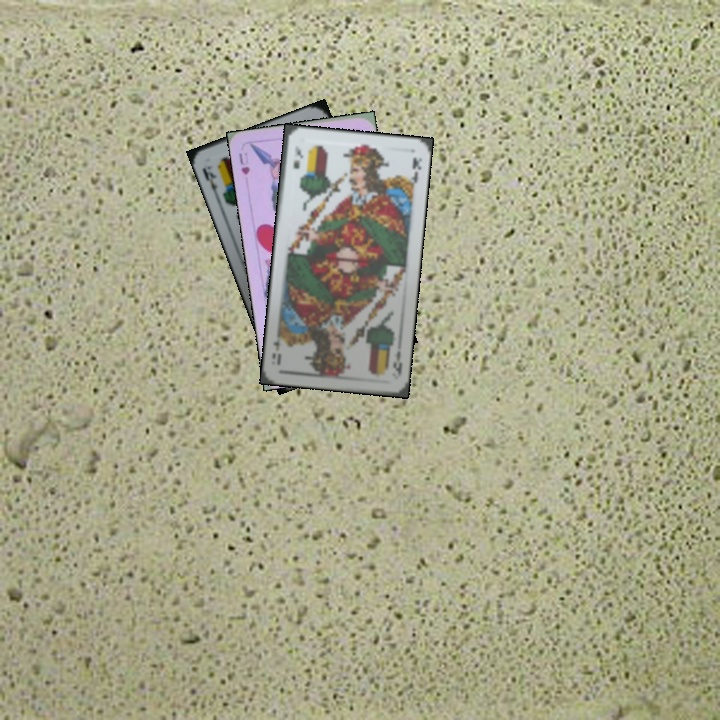EK: (198, 162, 221, 200), (389, 347, 405, 378), (289, 142, 305, 171)
HU: (234, 148, 252, 178)
